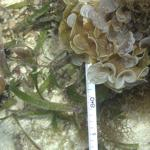dead: (6, 6, 147, 146)
